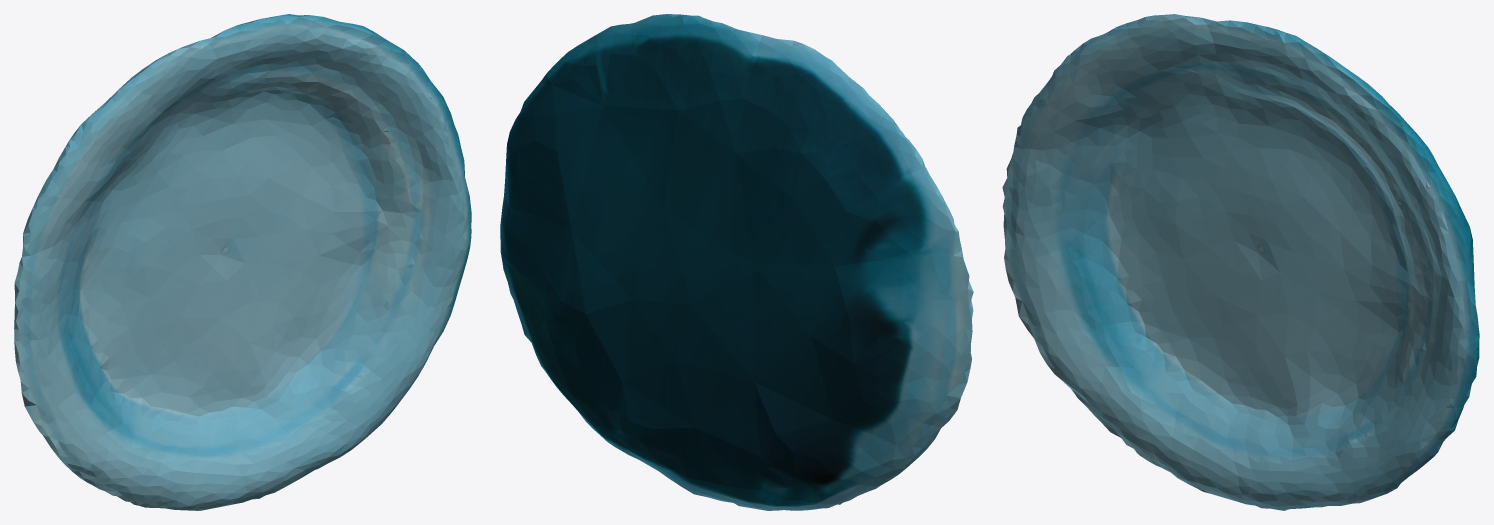
Rendered from blue_plate_big.obj.
3 views of the same model, side by side, from view 1: azimuth 30°, elevation 25°; view 2: azimuth 150°, elevation 25°; view 3: azimuth 330°, elevation 25° (orthographic).
Parts seen in each view (by area): view 1: mat0; view 2: mat0; view 3: mat0.
Part boxes in pixels (x1,y1,x2,y2): mat0: (14, 14, 471, 510); mat0: (500, 14, 973, 510); mat0: (1002, 14, 1479, 510).
Size of the model in its own units: 0.1245 by 0.1226 by 0.0156.
1 material, 1 textured.
